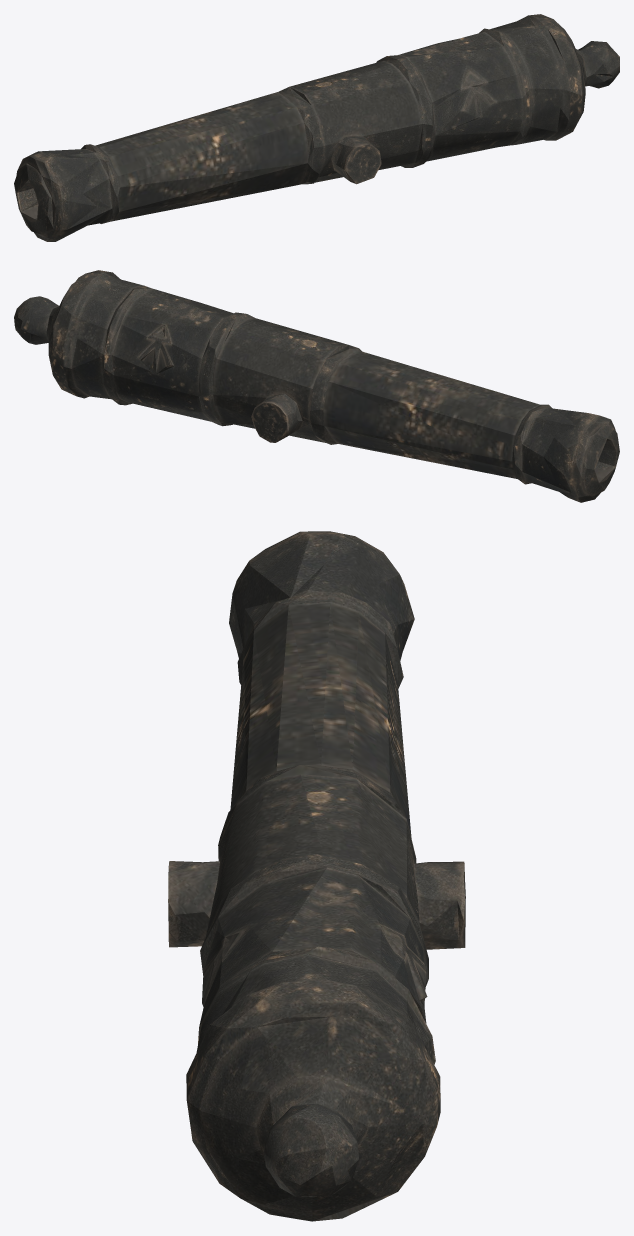
Rendered from gun.glb.
3 renders of one model, top to bottom at view 1: azimuth 30°, elevation 25°; view 2: azimuth 150°, elevation 25°; view 3: azimuth 270°, elevation 25°, orthographic. The views are drawn at different scales.
Parts seen in each view (by area): view 1: Mesh_0; view 2: Mesh_0; view 3: Mesh_0.
Part boxes in pixels (<box>): Mesh_0: <box>14,14,619,241</box>; Mesh_0: <box>14,270,619,502</box>; Mesh_0: <box>168,531,465,1221</box>.
Size of the model in its own units: 2.6 by 0.4931 by 0.57.
1 material, 1 textured.
